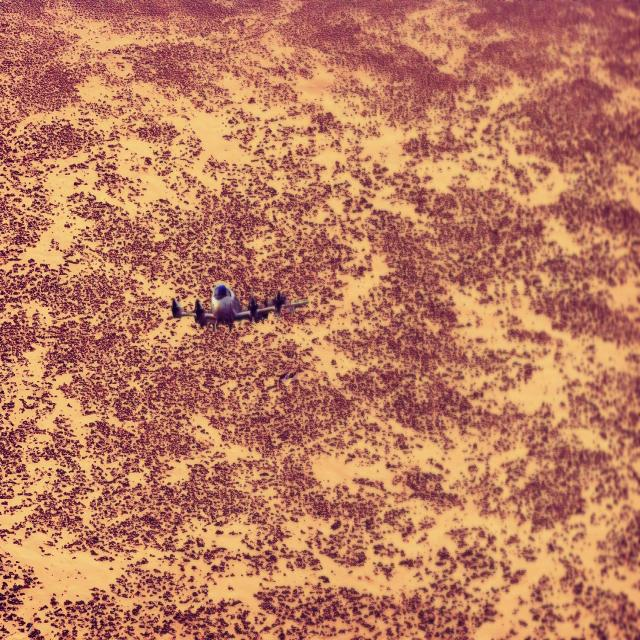airplane: (171, 281, 309, 333)
